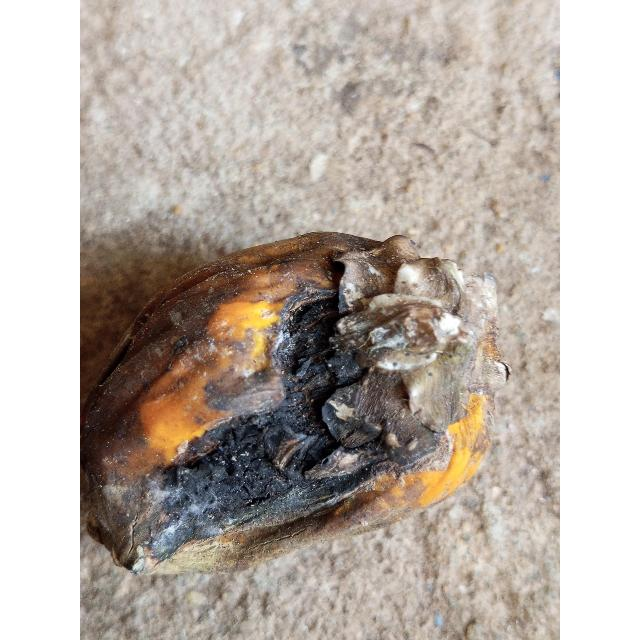damaged: (80, 231, 509, 578)
